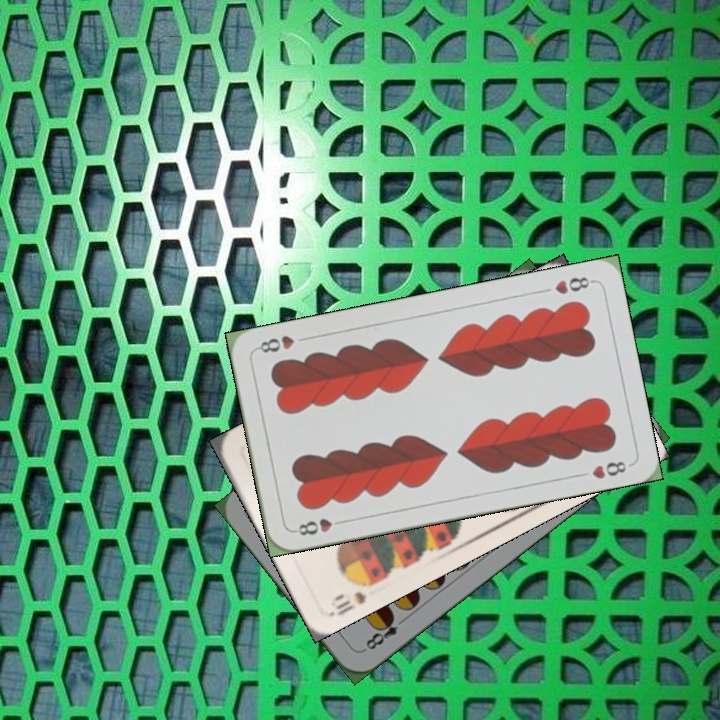E8: (359, 610, 409, 654)
H8: (290, 514, 349, 538), (550, 272, 596, 297)
S10: (327, 574, 379, 619)
